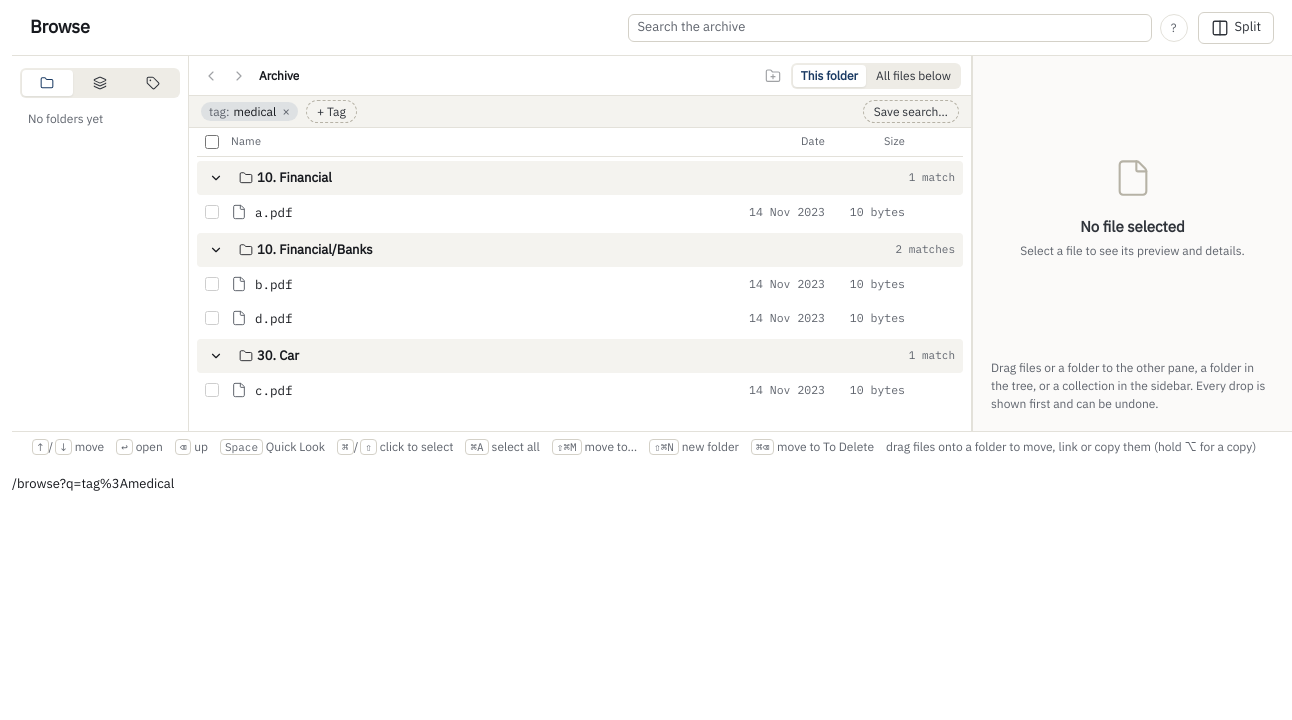
Test: The tags row › + Tag skips the tags already chosen, takes Enter on the first suggestion and Escape closes
Expected: the list named "Search results" is shown, [189,161,971,407]
Click the button "+ Tag" at (331, 112), box [306,100,357,123]
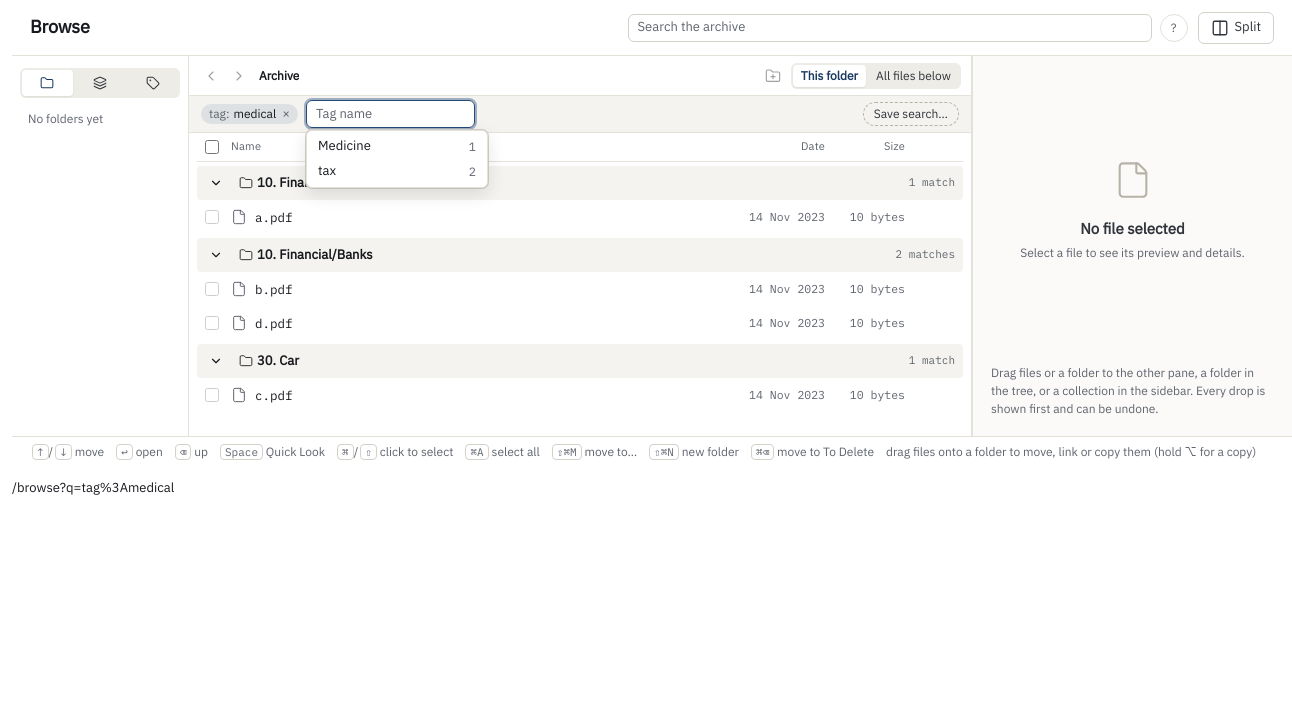
Type "med" into the field named "Tag to add" at (390, 114), box [306,100,475,128]
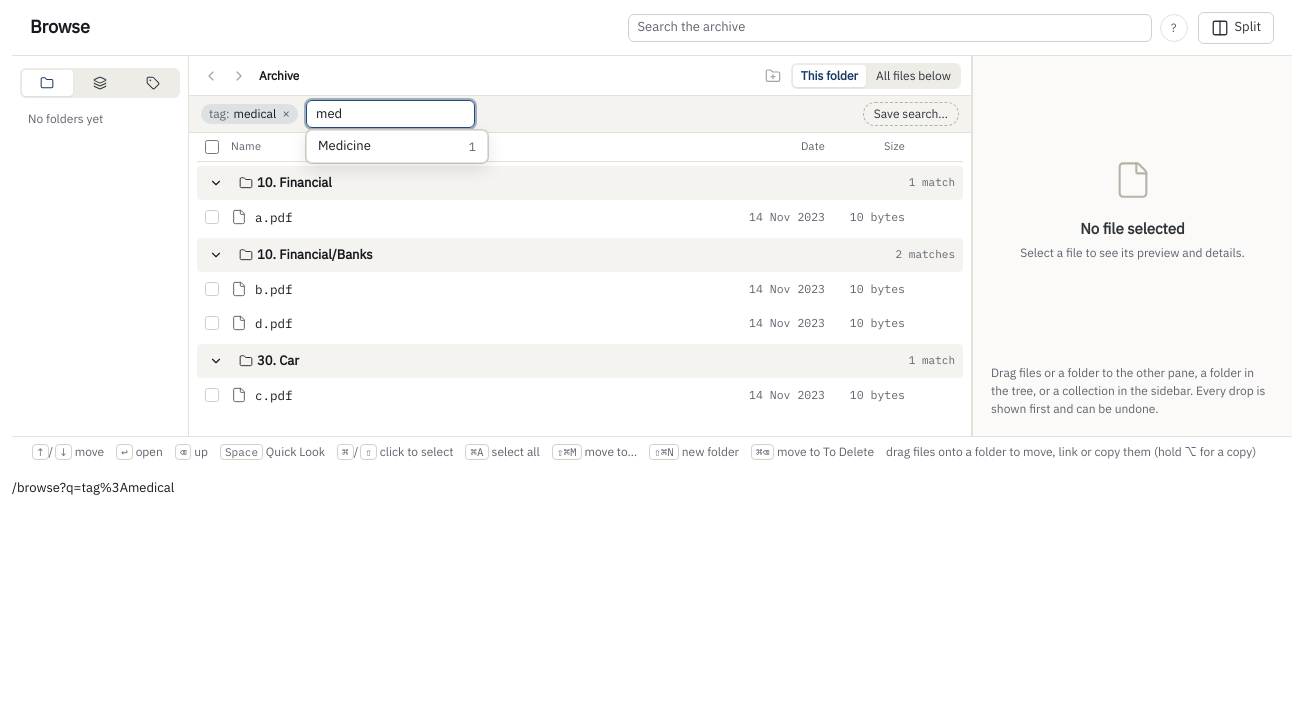
Expected: the options read "Medicine1", in this order, [310,134,484,159]
Press Escape
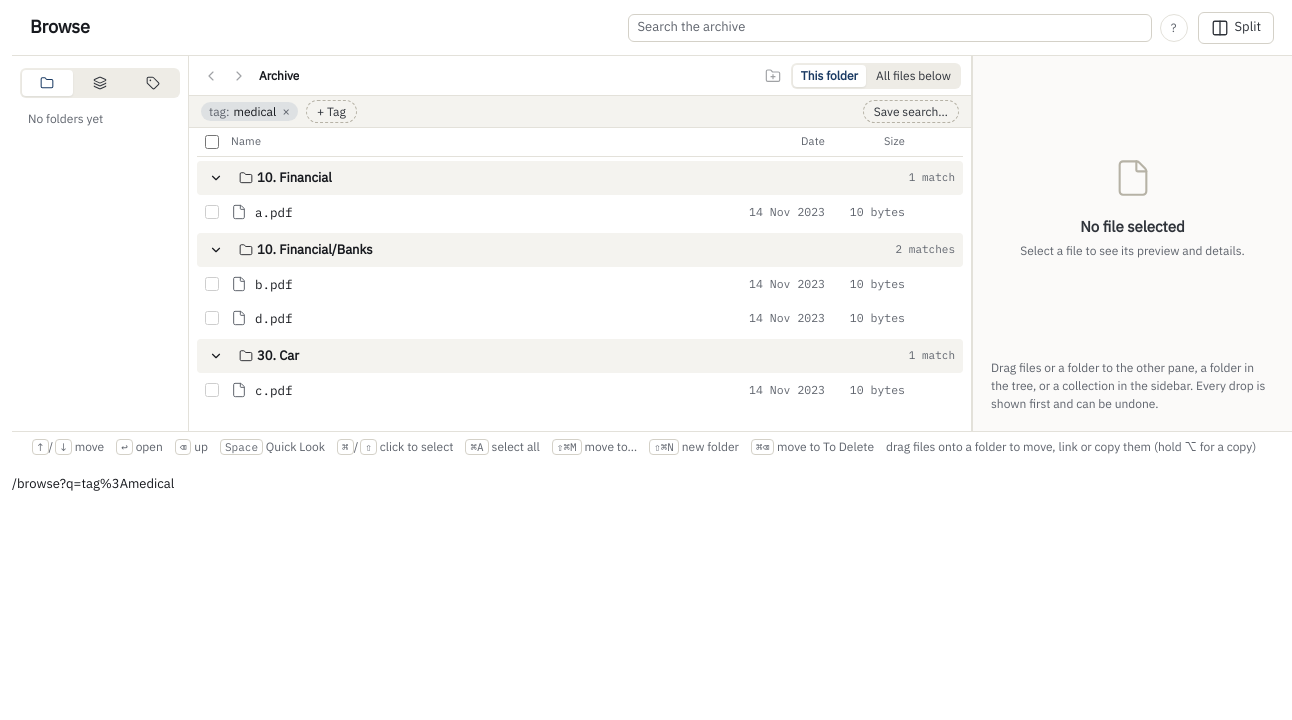
Click the button "+ Tag" at (331, 112), box [306,100,357,123]
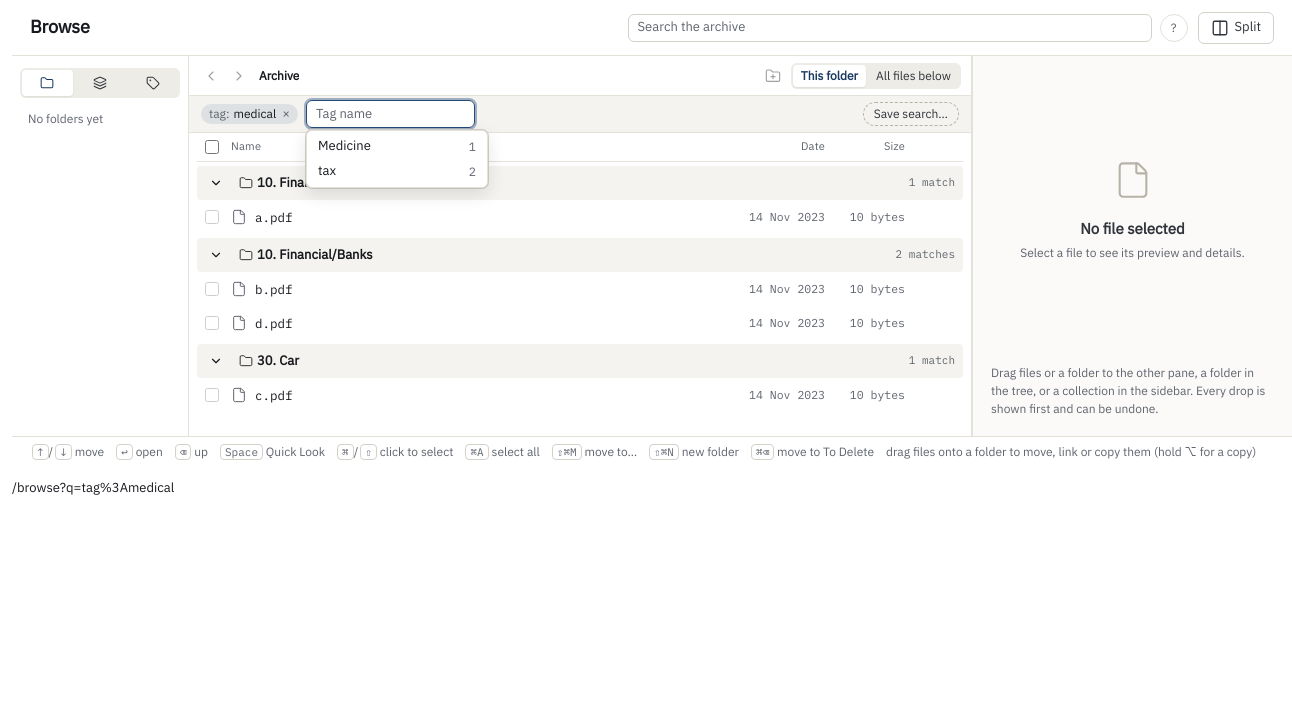
Type "med" into the field named "Tag to add" at (390, 114), box [306,100,475,128]
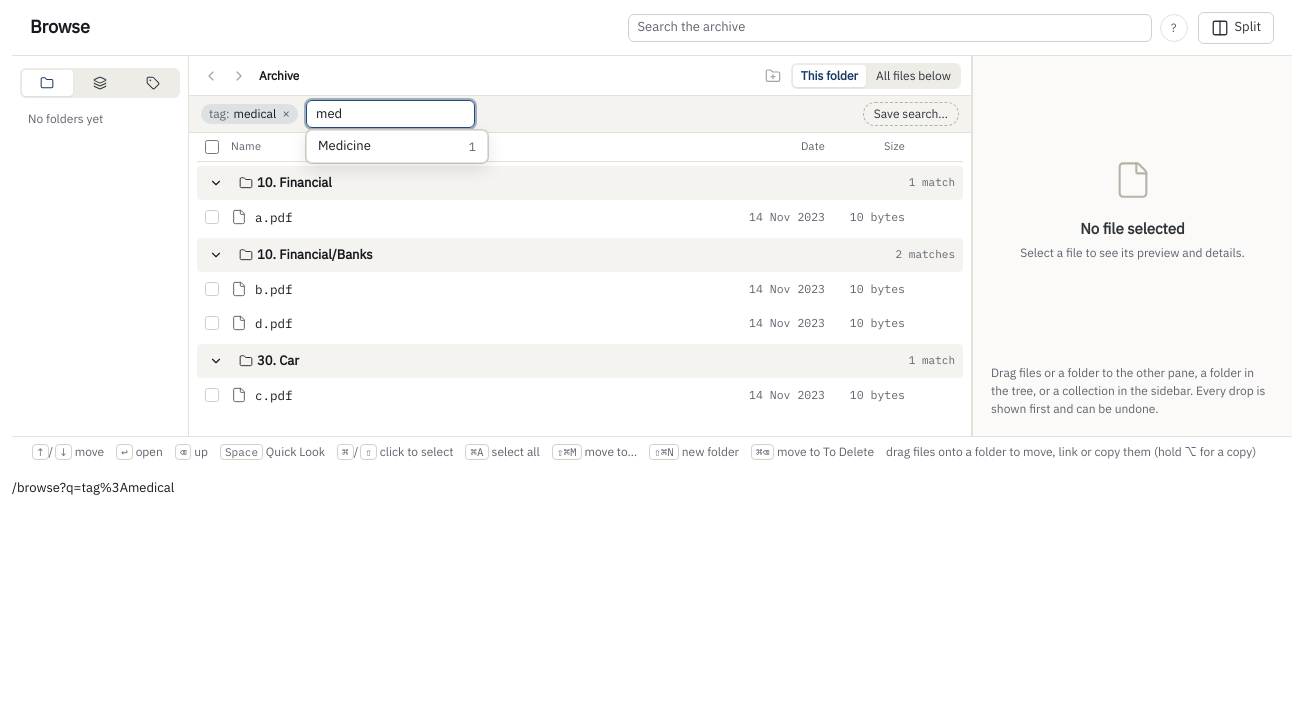
Expected: the list named "Matching tags" is shown, [306,130,488,163]
Press Enter
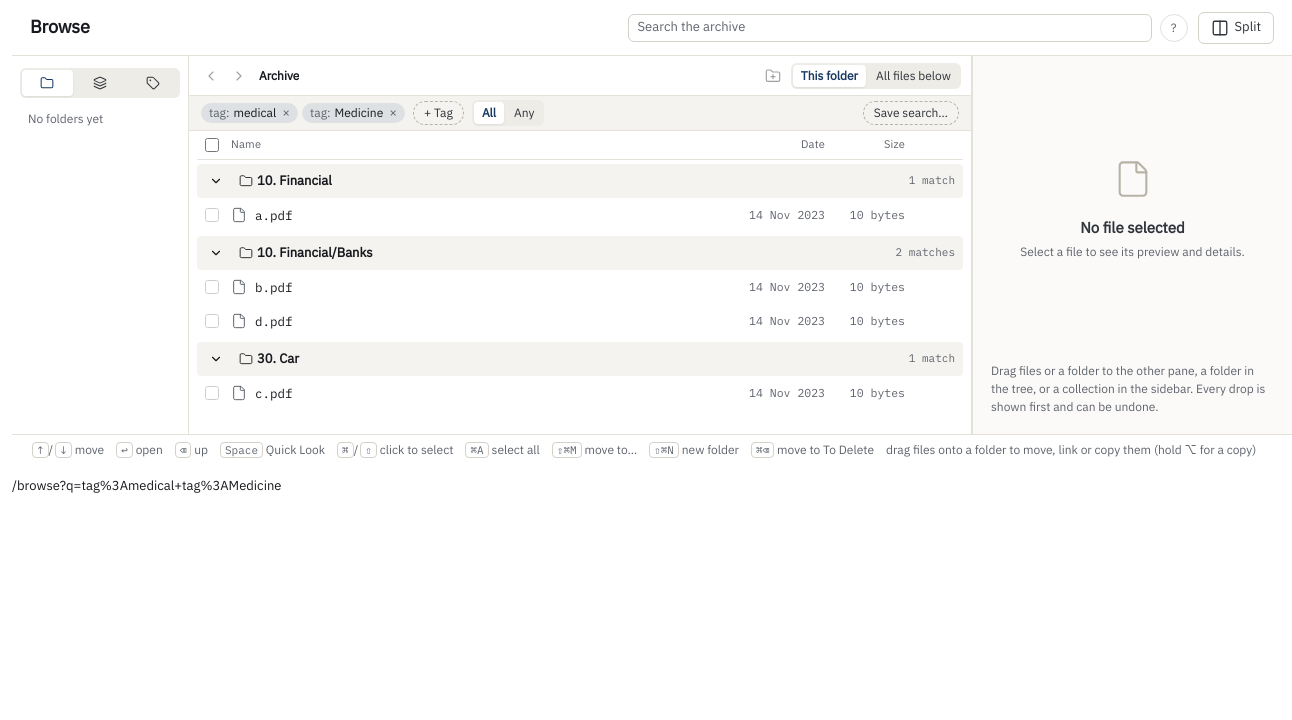
Expected: the text with test id "where" reads "/browse?q=tag%3Amedical+tag%3AMedicine", [12,477,281,494]
